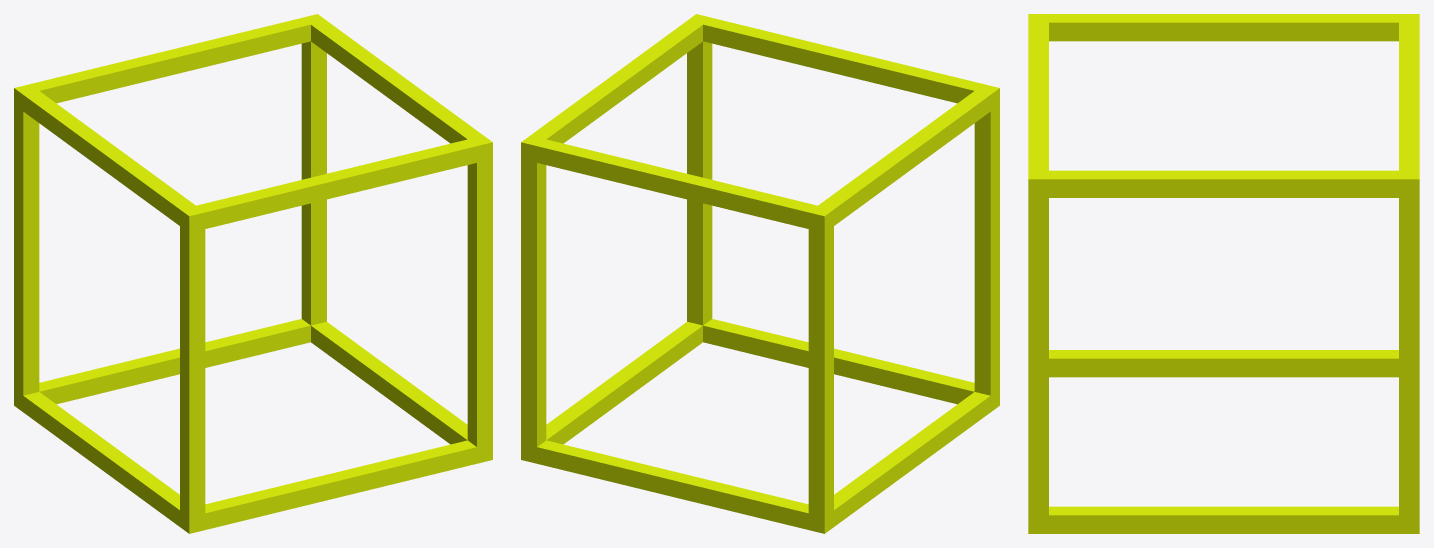
The model's file is Cursor.gltf.
3 renders of one model, left to right at view 1: azimuth 30°, elevation 25°; view 2: azimuth 150°, elevation 25°; view 3: azimuth 270°, elevation 25°, orthographic. The views are drawn at different scales.
Visible parts, largest first — view 1: mesh (×12); view 2: mesh (×12); view 3: mesh (×8).
Boxes of the visible parts, <box> form: mesh (×12): <box>14,14,492,533</box>; mesh (×12): <box>521,14,999,533</box>; mesh (×8): <box>1028,14,1419,533</box>.
Size of the model in its own units: 1.19 by 1.19 by 1.19.
1 material, 1 textured.
